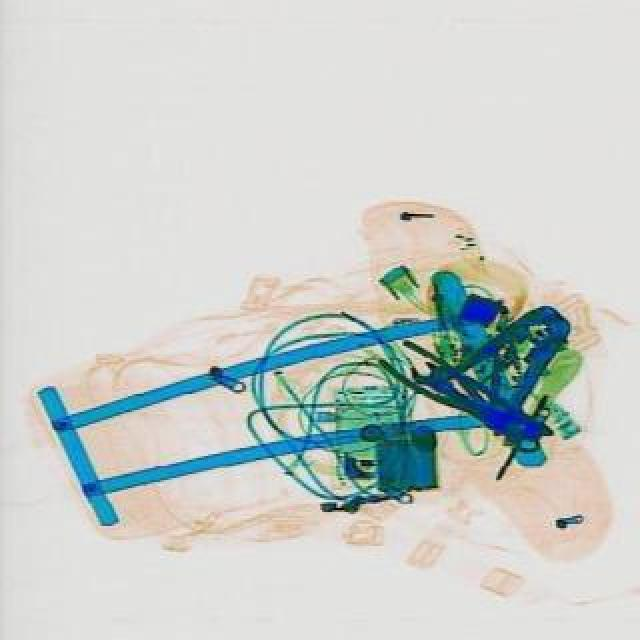scissors: (400, 352, 514, 434)
wrench: (372, 330, 562, 458), (430, 288, 586, 432)
